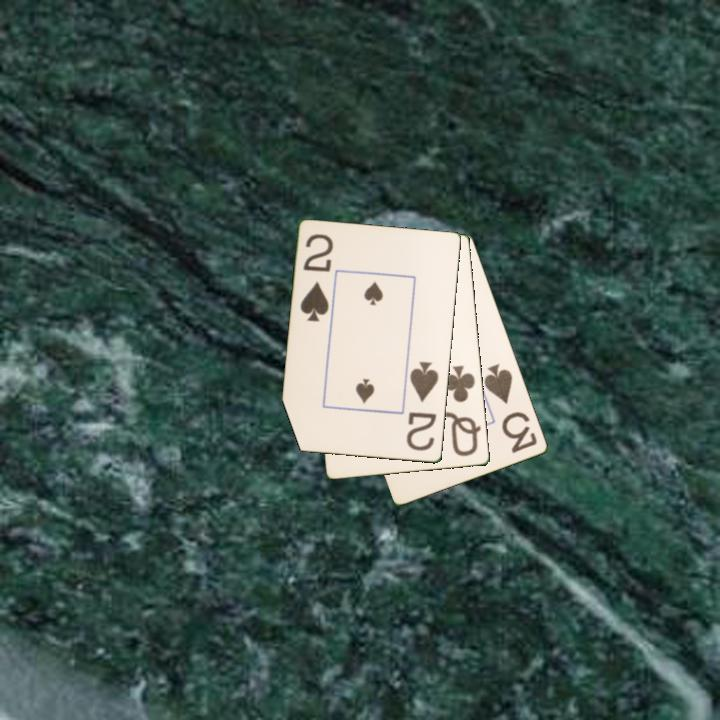2s: (403, 358, 442, 454), (297, 230, 336, 325)
3s: (481, 360, 540, 456)
Qc: (440, 362, 484, 460)
